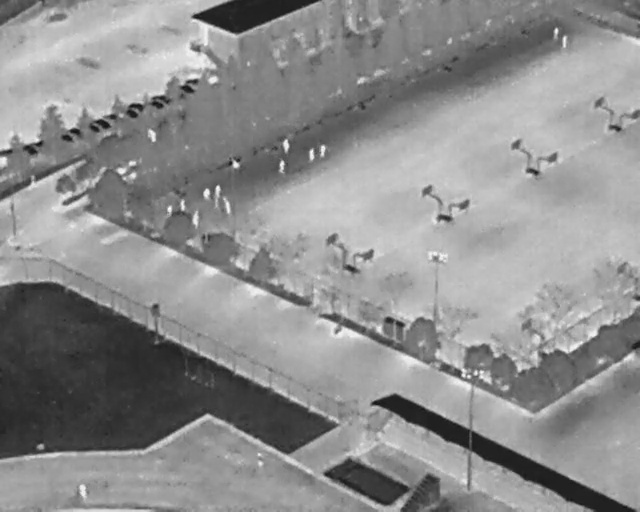Car: (20, 139, 41, 160), (92, 113, 113, 134), (56, 128, 76, 147), (151, 92, 171, 106), (34, 136, 50, 153), (178, 82, 196, 97), (86, 120, 102, 135), (123, 106, 139, 121), (66, 124, 83, 138), (127, 100, 145, 113), (147, 98, 165, 111), (186, 77, 201, 87), (104, 112, 118, 122)
Person: (221, 195, 233, 217), (213, 184, 222, 208), (192, 210, 201, 231), (254, 451, 265, 467), (78, 484, 89, 498), (281, 139, 291, 154), (560, 35, 569, 51), (231, 157, 240, 171), (307, 147, 315, 162), (278, 160, 286, 175), (179, 198, 187, 213), (319, 145, 326, 160), (203, 187, 210, 201), (165, 205, 173, 217), (553, 26, 560, 39)
